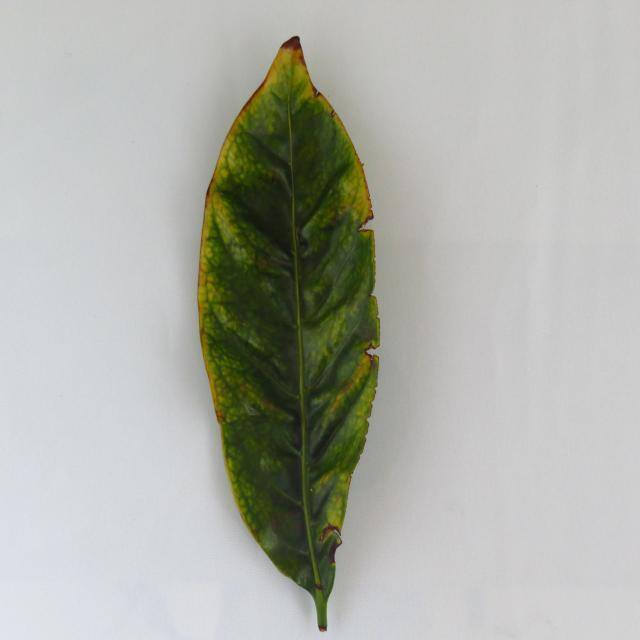DeficienciaNutricional-Manganeso: (198, 37, 380, 632)
